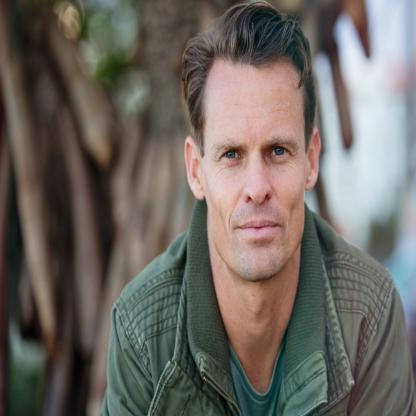Eye: (216, 147, 248, 169), (267, 145, 296, 164)
Mouth: (235, 214, 284, 243)
Nose: (242, 151, 274, 206)
